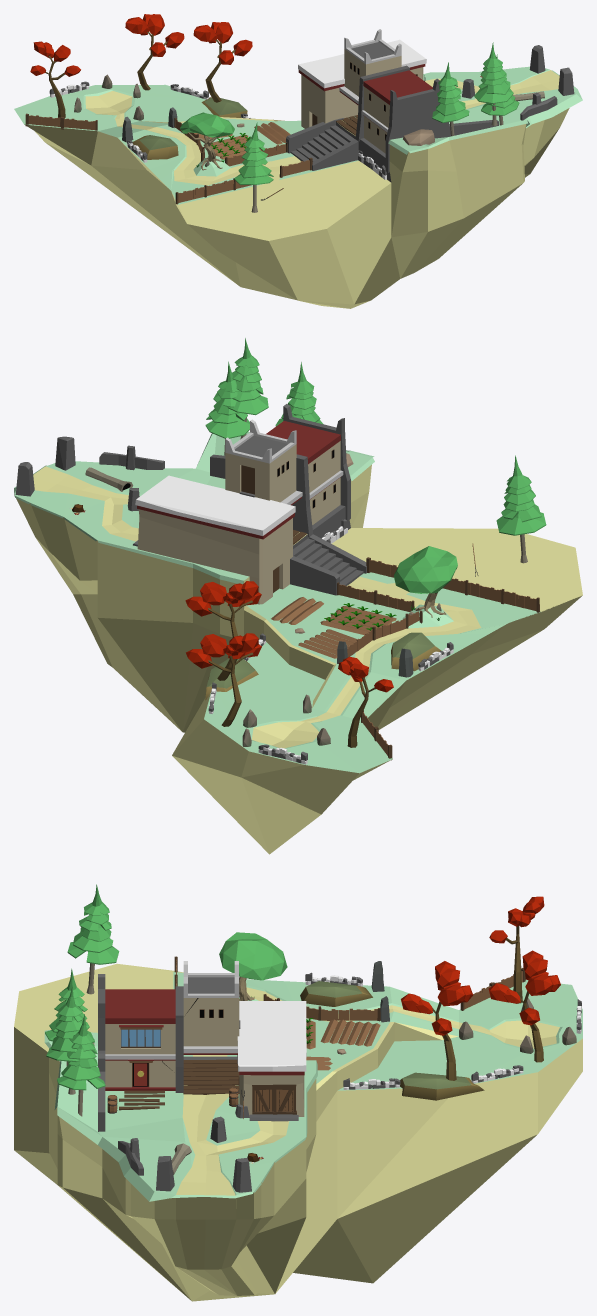
Rendered from SM_01 One house .fbx.
3 renders of one model, top to bottom at view 1: azimuth 30°, elevation 25°; view 2: azimuth 150°, elevation 25°; view 3: azimuth 270°, elevation 25°, orthographic. The views are drawn at different scales.
Parts seen in each view (by area): view 1: Island01.004, Cube.085, Cube.082, Cube.079, Cube.084, Cube.078, Cube.080, Tree_red_01.005, Tree_red_01.003, Pine.006, Pine.008, Pine.009 (+13 smaller); view 2: Island01.004, Cube.079, Cube.078, Cube.080, Cube.082, Pine.006, Icosphere.013, Tree_red_01.003, Tree_red_01.005, Cube.084, Cube.077, Pine.001 (+12 smaller); view 3: Island01.004, Cube.078, Cube.084, Cube.080, Icosphere.013, Tree_red_01.005, Pine.006, Tree_red_01.003, Windowstibetean.002, Pine.001, Cube.083, Rock.010 (+15 smaller).
Part boxes in pixels (x1,y1,x2,y2): Island01.004: (14,66,582,308); Cube.085: (385,78,498,172); Cube.082: (286,65,409,170); Cube.079: (301,67,423,128); Cube.084: (339,70,432,132); Cube.078: (298,39,426,88); Cube.080: (344,42,401,96); Tree_red_01.005: (193,22,252,102); Tree_red_01.003: (125,14,184,90); Pine.006: (234,122,273,212); Pine.008: (474,42,513,125); Pine.009: (432,62,469,136); Island01.004: (14,431,582,854); Cube.079: (137,509,292,604); Cube.078: (135,475,295,535); Cube.080: (225,435,296,502); Cube.082: (290,454,366,595); Pine.006: (496,455,546,563); Icosphere.013: (394,546,457,593); Tree_red_01.003: (186,633,261,726); Tree_red_01.005: (185,581,261,680); Cube.084: (266,421,343,505); Cube.077: (308,441,340,524); Pine.001: (205,361,249,455); Island01.004: (14,963,582,1301); Cube.078: (237,1001,306,1071); Cube.084: (105,989,237,1090); Cube.080: (183,976,240,1046); Icosphere.013: (219,932,287,980); Tree_red_01.005: (401,961,472,1080); Pine.006: (67,884,119,994); Tree_red_01.003: (488,950,560,1062); Windowstibetean.002: (105,1024,175,1054); Pine.001: (57,1014,105,1116); Cube.083: (105,1060,175,1087); Rock.010: (400,1072,484,1100).
Size of the model in its own units: 3706 by 2527 by 3392.
